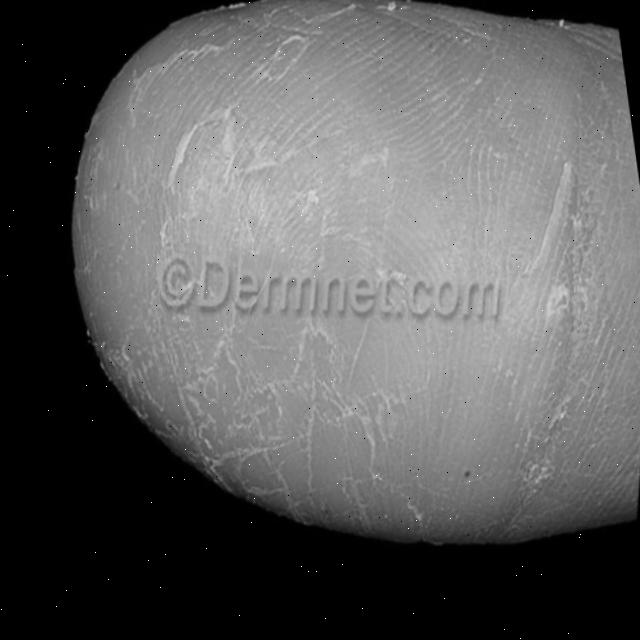Eczema: (56, 0, 640, 567)
